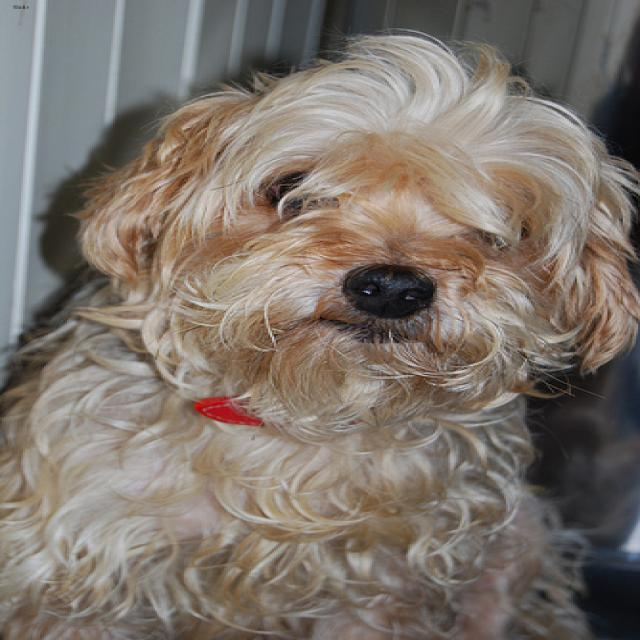dog-yorkshire_terrier: (2, 20, 636, 637)
